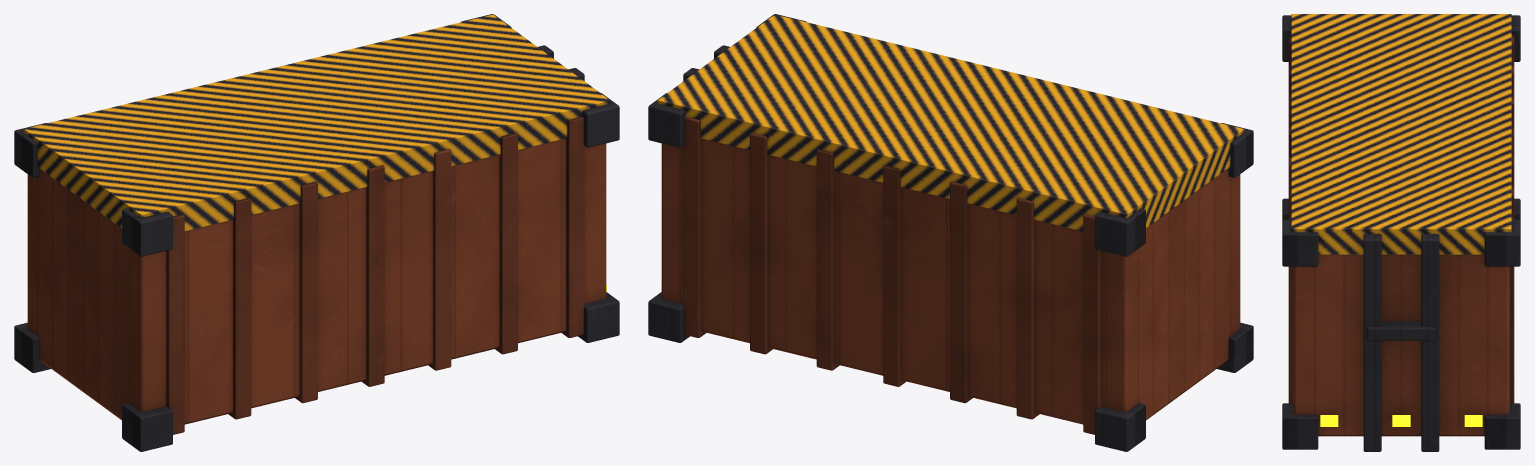
Rendered from debris_crate.glb.
3 views of the same model, side by side, from view 1: azimuth 30°, elevation 25°; view 2: azimuth 150°, elevation 25°; view 3: azimuth 270°, elevation 25° (orthographic). The views are drawn at different scales.
Visible parts, largest first — view 1: Container, HazardBand, Ribs, Fittings; view 2: Container, HazardBand, Ribs, Fittings; view 3: HazardBand, Container, Fittings, Ribs, DoorLights.
Part boxes in pixels (bbox=[...]): Container: bbox=[27, 138, 606, 424]; HazardBand: bbox=[23, 14, 610, 231]; Ribs: bbox=[166, 116, 584, 434]; Fittings: bbox=[14, 14, 619, 451]; Container: bbox=[661, 138, 1240, 424]; HazardBand: bbox=[657, 14, 1244, 231]; Ribs: bbox=[683, 116, 1101, 434]; Fittings: bbox=[648, 14, 1253, 451]; HazardBand: bbox=[1291, 14, 1511, 254]; Container: bbox=[1293, 255, 1509, 436]; Fittings: bbox=[1282, 15, 1520, 451]; Ribs: bbox=[1288, 35, 1514, 403]; DoorLights: bbox=[1320, 415, 1482, 426].
Bounding box in the file's own units: 14.75 × 6.7 × 6.6.
5 materials, 4 textured.
